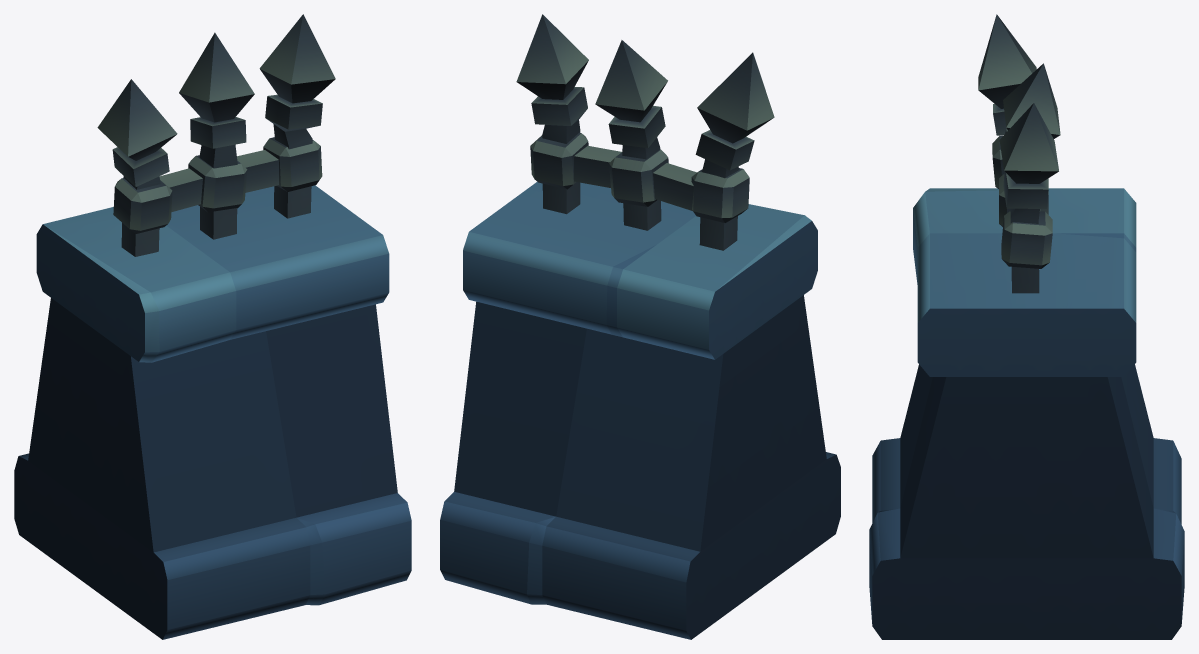
File: wall_small_tile.fbx
3 views of the same model, side by side, from view 1: azimuth 30°, elevation 25°; view 2: azimuth 150°, elevation 25°; view 3: azimuth 270°, elevation 25° (orthographic).
Visible parts, largest first — view 1: wall_small_tile; view 2: wall_small_tile; view 3: wall_small_tile.
Boxes of the visible parts, x1,y1,x2,y2 form: wall_small_tile: [14, 14, 411, 639]; wall_small_tile: [440, 14, 840, 639]; wall_small_tile: [869, 14, 1184, 639].
Bounding box in the file's own units: 100 × 204 × 111.
